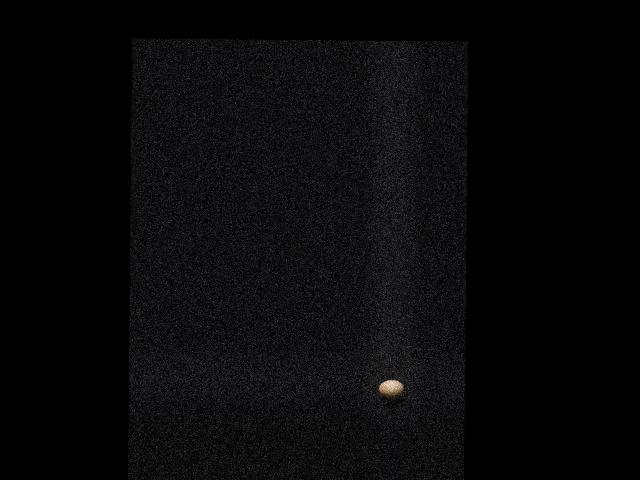egg: (378, 379, 404, 398)
